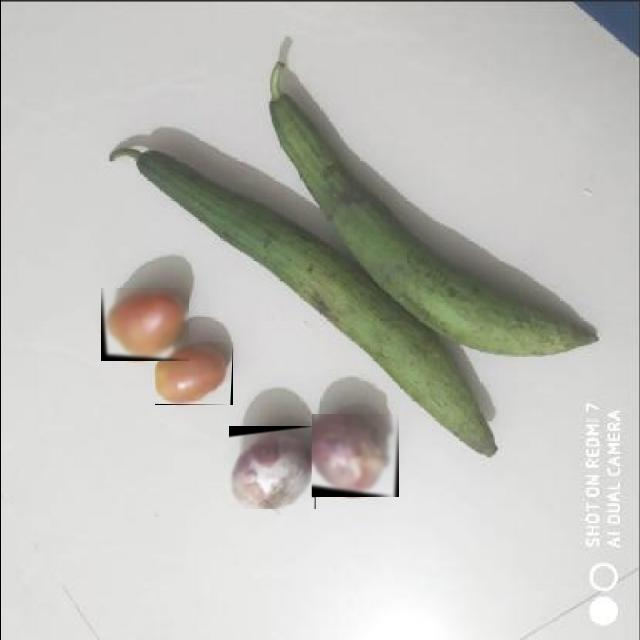onion: (228, 426, 315, 509), (311, 414, 398, 497)
tomato: (100, 288, 188, 361), (154, 344, 232, 405)
